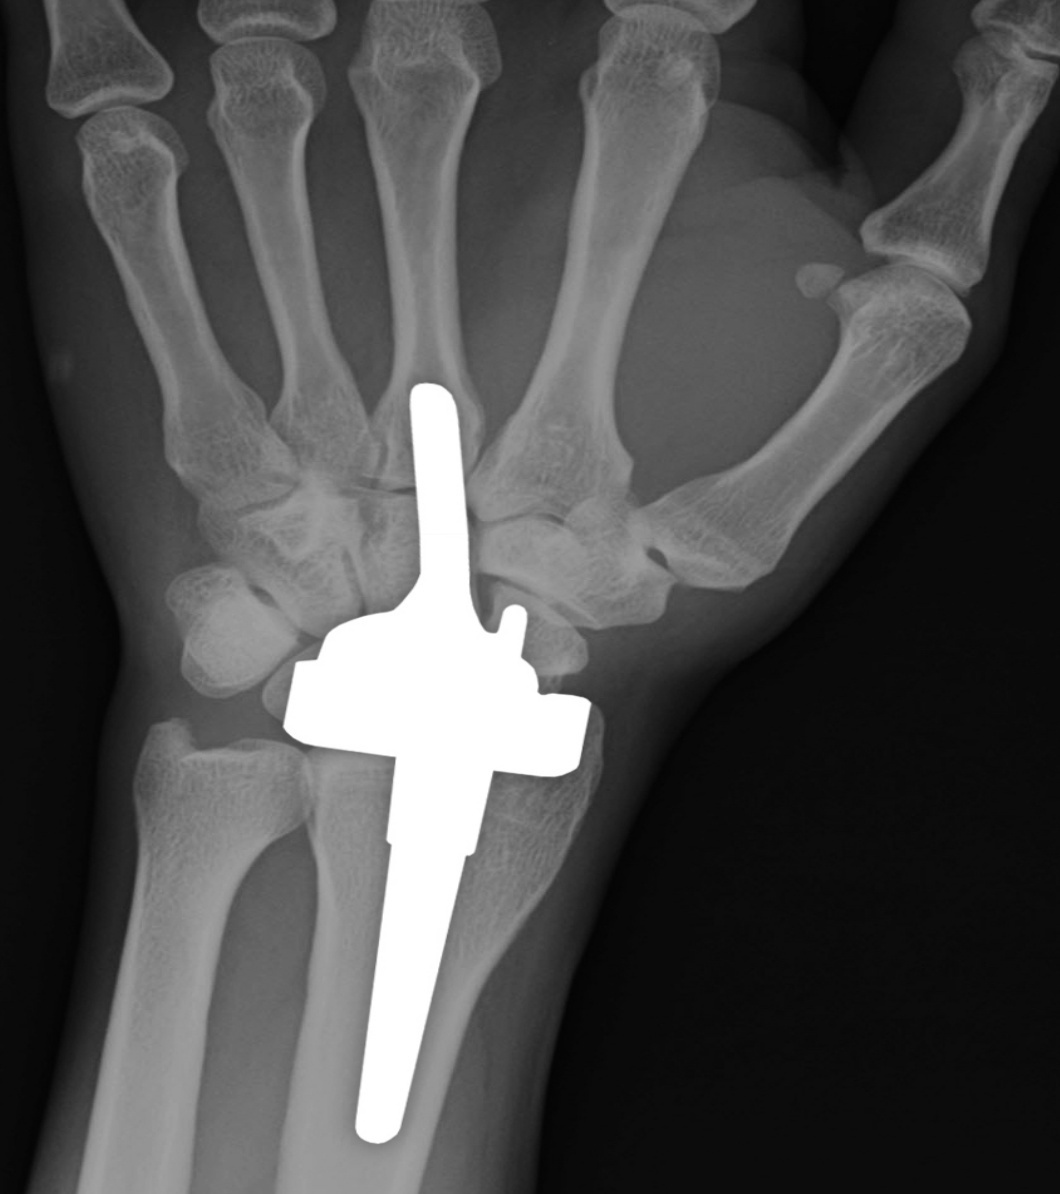Wrist-Biax-DePuuy: (231, 372, 597, 1158)
